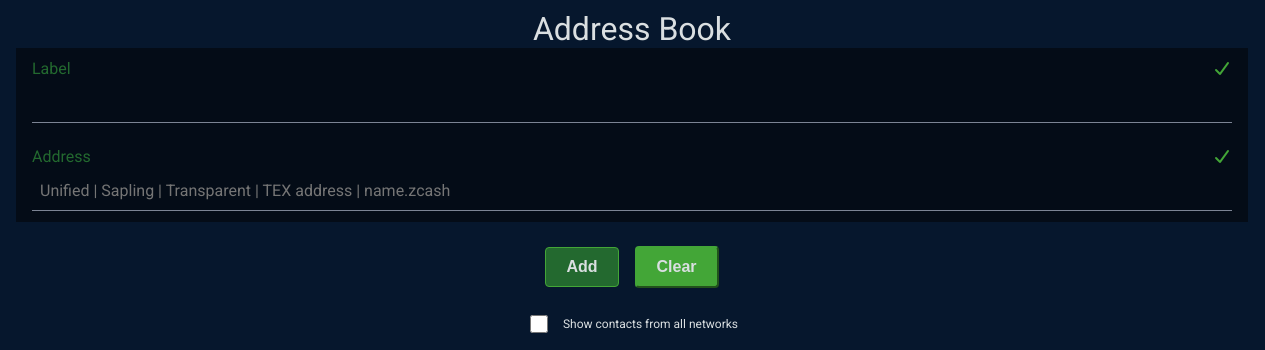
AddressBook › recognizes a ZNS alias as valid and shows the 'ZNS' tag
Type "alice.zcash" into the field labelled "Unified | Sapling | Transparent | TEX address | name.zcash" at (632, 190), box left=32, top=170, right=1232, bottom=211
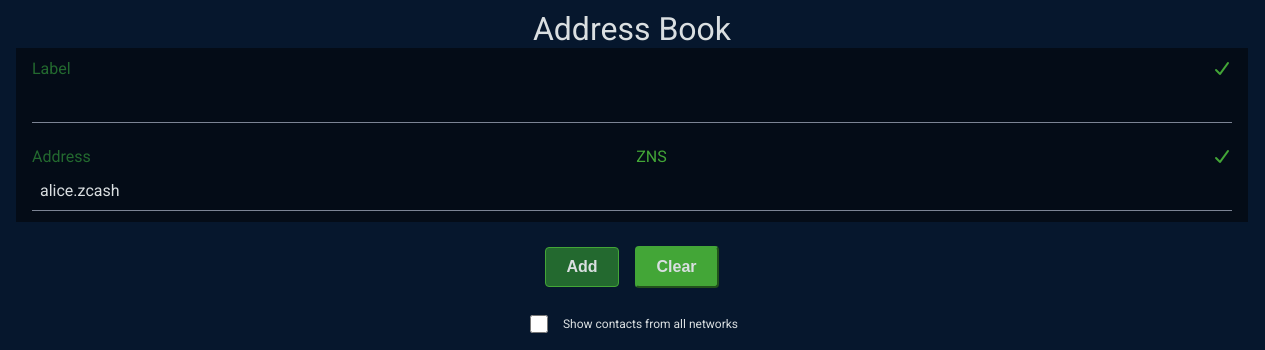
Result: the text "ZNS" is shown at left=636, top=147, right=667, bottom=166
